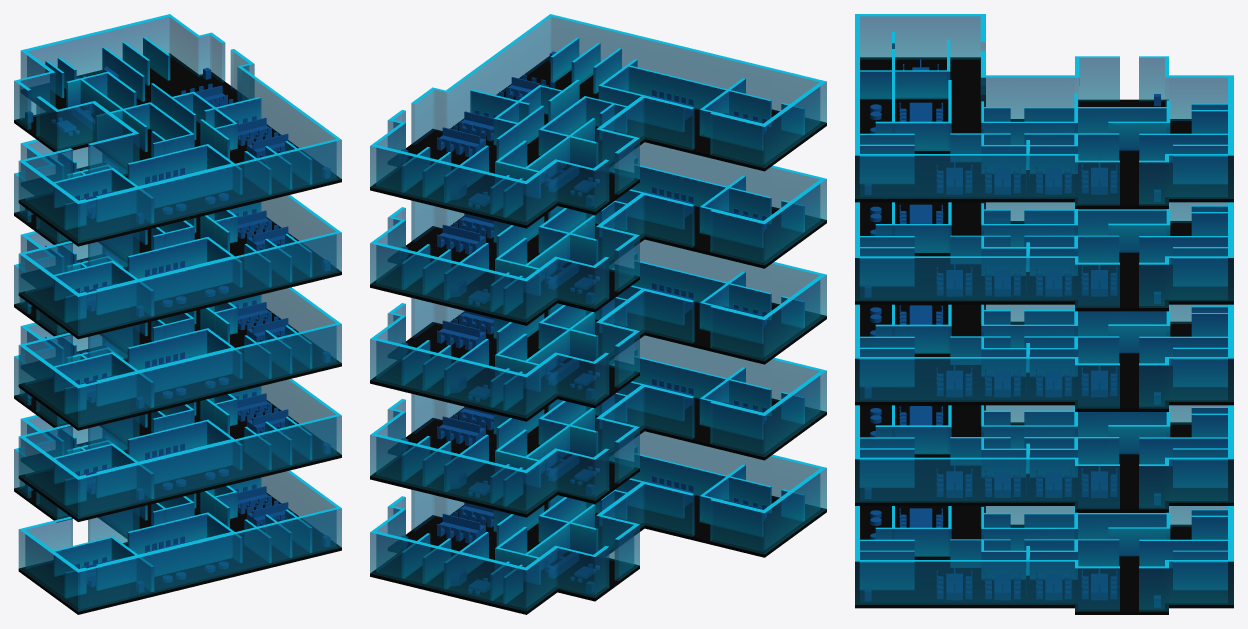
The model's file is floorPlanMultiple.glb.
3 views of the same model, side by side, from view 1: azimuth 30°, elevation 25°; view 2: azimuth 150°, elevation 25°; view 3: azimuth 270°, elevation 25° (orthographic). The views are drawn at different scales.
Visible parts, largest first — view 1: 2.5D Floorplan.005, 2.5D Floorplan.004, 2.5D Floorplan.003, 2.5D Floorplan.001, 2.5D Floorplan.002, FloorplanBase.005, FloorplanBase.003, FloorplanBase.004, FloorplanBase.001, FloorplanBase.002, Objects.005, Objects.003 (+3 smaller); view 2: 2.5D Floorplan.005, 2.5D Floorplan.003, 2.5D Floorplan.004, 2.5D Floorplan.001, 2.5D Floorplan.002, FloorplanBase.005, FloorplanBase.004, FloorplanBase.003, FloorplanBase.002, FloorplanBase.001, Objects.005, Objects.003 (+3 smaller); view 3: 2.5D Floorplan.005, 2.5D Floorplan.003, 2.5D Floorplan.004, 2.5D Floorplan.001, 2.5D Floorplan.002, FloorplanBase.005, FloorplanBase.003, FloorplanBase.004, FloorplanBase.001, FloorplanBase.002, Objects.005, Objects.004 (+3 smaller).
Boxes of the visible parts, box(x1,y1,x2,y2) form: 2.5D Floorplan.005: box(14, 14, 341, 243); 2.5D Floorplan.004: box(14, 139, 341, 335); 2.5D Floorplan.003: box(14, 415, 341, 611); 2.5D Floorplan.001: box(14, 231, 341, 427); 2.5D Floorplan.002: box(14, 322, 341, 518); FloorplanBase.005: box(14, 53, 341, 246); FloorplanBase.003: box(14, 439, 341, 614); FloorplanBase.004: box(14, 163, 341, 339); FloorplanBase.001: box(14, 254, 341, 430); FloorplanBase.002: box(14, 346, 341, 521); Objects.005: box(25, 66, 330, 223); Objects.003: box(25, 434, 330, 592); 2.5D Floorplan.005: box(370, 14, 826, 224); 2.5D Floorplan.003: box(370, 431, 826, 611); 2.5D Floorplan.004: box(370, 142, 826, 322); 2.5D Floorplan.001: box(370, 239, 826, 418); 2.5D Floorplan.002: box(370, 335, 826, 513); FloorplanBase.005: box(370, 56, 826, 228); FloorplanBase.004: box(370, 205, 826, 325); FloorplanBase.003: box(370, 494, 826, 614); FloorplanBase.002: box(370, 397, 826, 517); FloorplanBase.001: box(370, 301, 826, 421); Objects.005: box(401, 51, 766, 208); Objects.003: box(401, 475, 766, 594); 2.5D Floorplan.005: box(855, 14, 1233, 205); 2.5D Floorplan.003: box(855, 506, 1233, 611); 2.5D Floorplan.004: box(855, 202, 1233, 307); 2.5D Floorplan.001: box(855, 304, 1233, 408); 2.5D Floorplan.002: box(855, 405, 1233, 508); FloorplanBase.005: box(855, 57, 1233, 208); FloorplanBase.003: box(855, 506, 1233, 614); FloorplanBase.004: box(855, 202, 1233, 311); FloorplanBase.001: box(855, 304, 1233, 411); FloorplanBase.002: box(855, 405, 1233, 512); Objects.005: box(865, 59, 1160, 201); Objects.004: box(865, 204, 1160, 303).
Size of the model in its own units: 34.52 by 49.06 by 37.22.
Materials: 15 (10 with a texture image).
